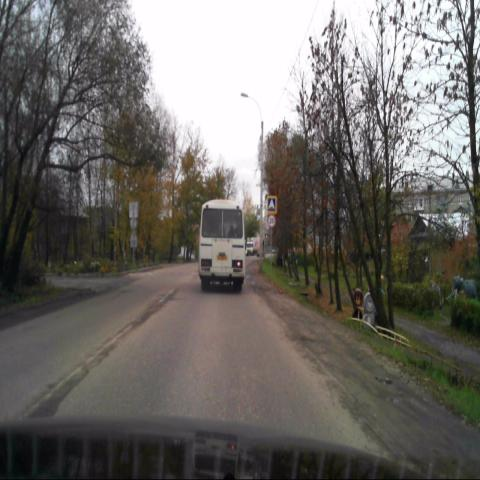3_24: (267, 214, 275, 227)
5_20: (267, 196, 276, 214)
